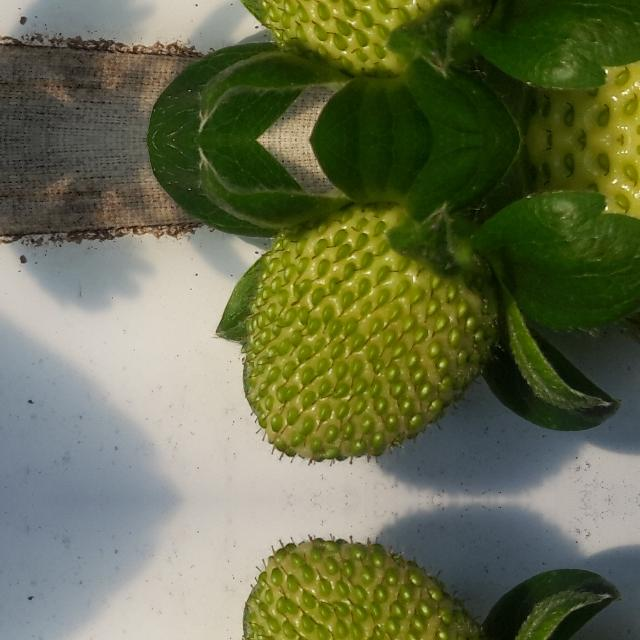Health_25: (242, 200, 498, 462), (242, 538, 498, 640), (242, 0, 498, 79)
